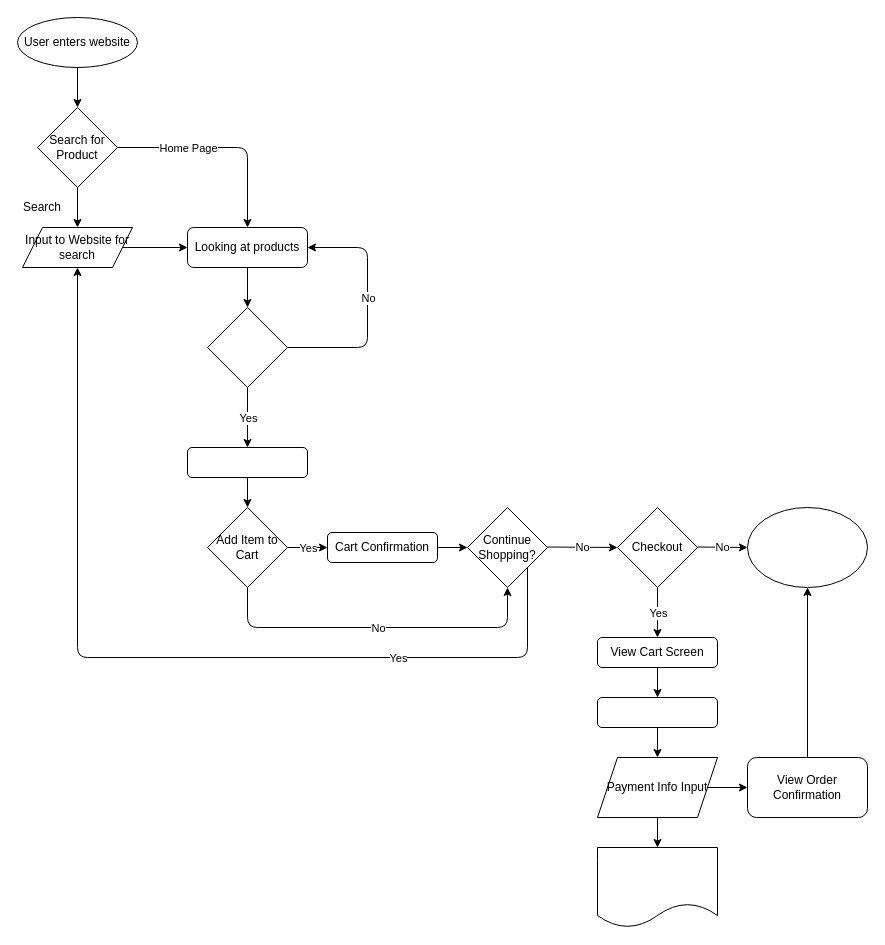
Some shapes in this 885 by 945 pixel diagram are drawn without their labels. The box of each missing label's shape, as (x1, y1, x2, y2) in pixels:
Email Sent: (596, 846, 718, 928)
Leave Website: (746, 506, 868, 588)
Look at Product Page: (186, 446, 308, 478)
Looking at specific product: (206, 306, 288, 388)
View Payment Screen: (596, 696, 718, 728)
